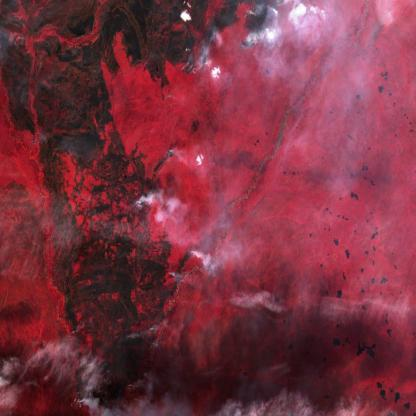fire: (179, 0, 277, 67), (126, 142, 186, 230), (68, 363, 142, 416), (163, 240, 204, 296), (55, 279, 83, 316)
